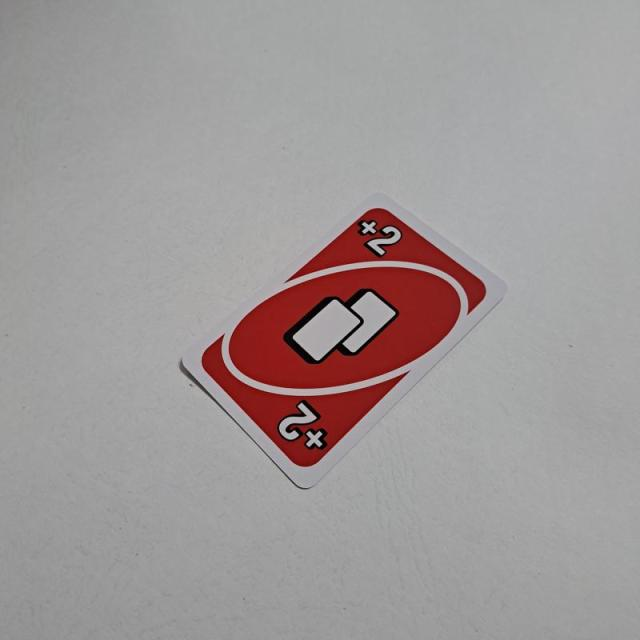Draw_Two: (355, 210, 405, 262)
Red_Card: (196, 204, 493, 473)
